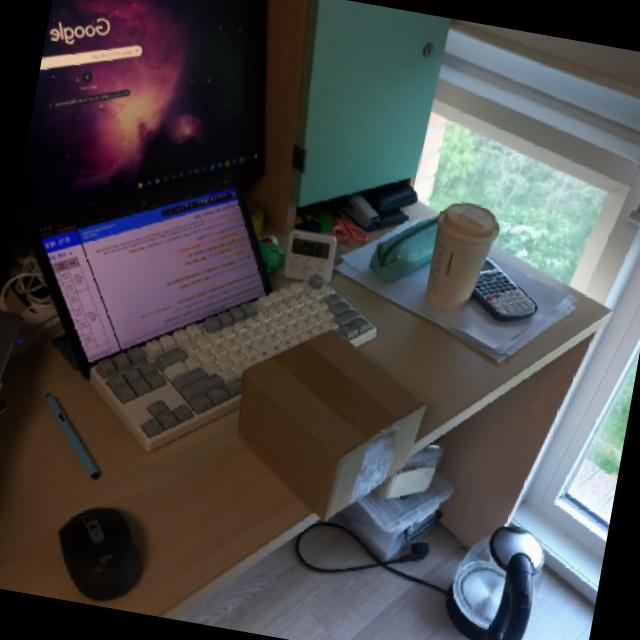box: (210, 308, 447, 544)
